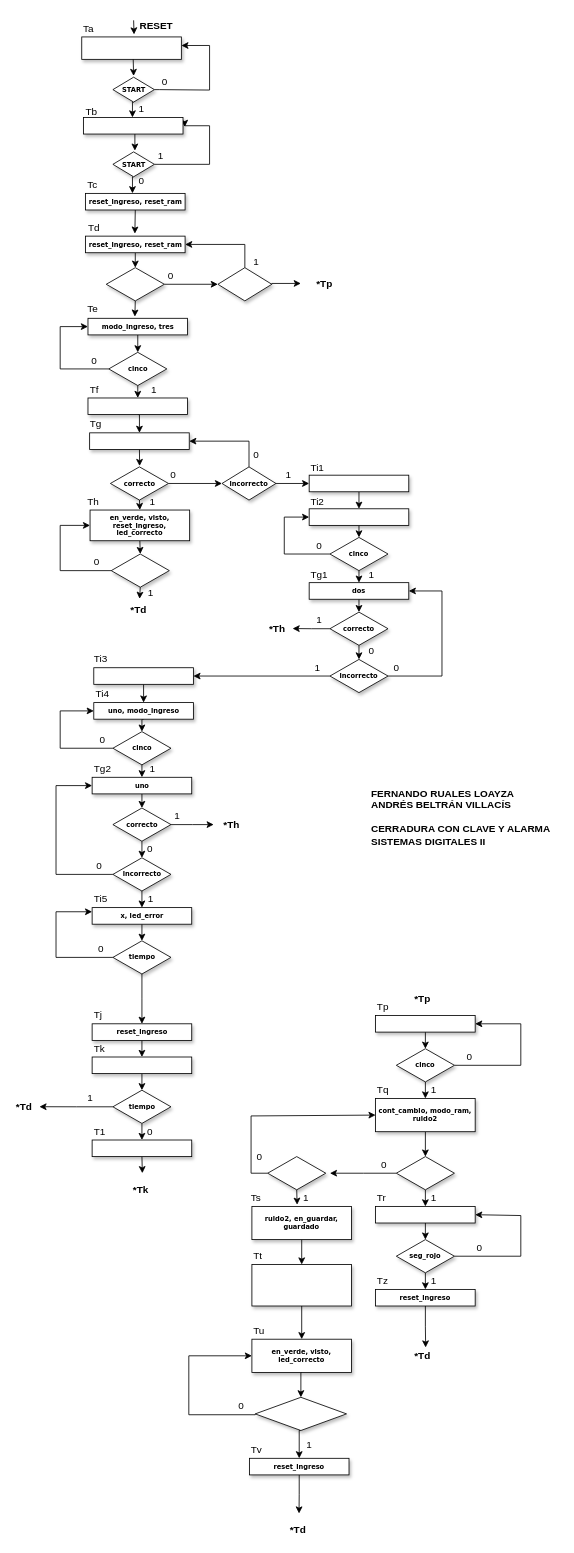
Some shapes in this 574 by 1553 pixel diagram are drawn without their labels. Each missing label, with the centre of its shape:
"cambio" goes at (x=245, y=285).
"cr" goes at (x=425, y=1174).
"dos, modo_ingreso" goes at (x=359, y=518).
"dos, reset_ingreso, modo_ingreso" goes at (x=359, y=484).
"en_ledrojo, x, led_error" goes at (x=425, y=1215).
"fin" goes at (x=297, y=1174).
"ingresar" goes at (x=135, y=285).
"modo_ingreso, ruido2" goes at (x=425, y=1024).
"ruido1" goes at (x=142, y=1066).
"ruido2" goes at (x=142, y=1149).
"ruido2, modo_ram, en_guardar, guardado" goes at (x=302, y=1286).
"tres_segundos" goes at (x=301, y=1414).
"uno, reset_ingreso" goes at (x=144, y=677).
"verde" goes at (x=140, y=571).
